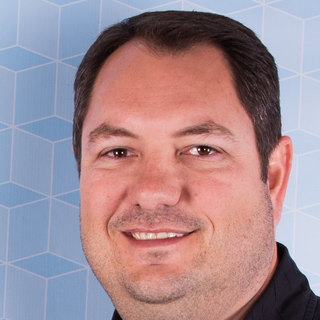eye: (174, 140, 233, 167), (90, 141, 145, 165)
